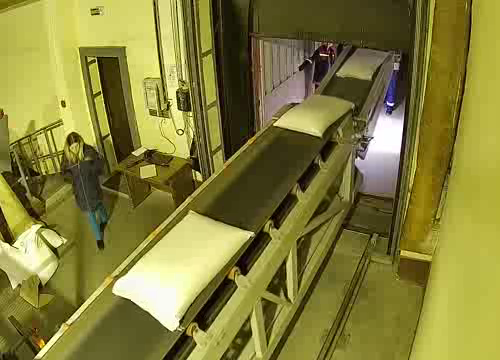bag: (109, 209, 257, 333), (270, 92, 356, 137), (336, 47, 392, 82)
